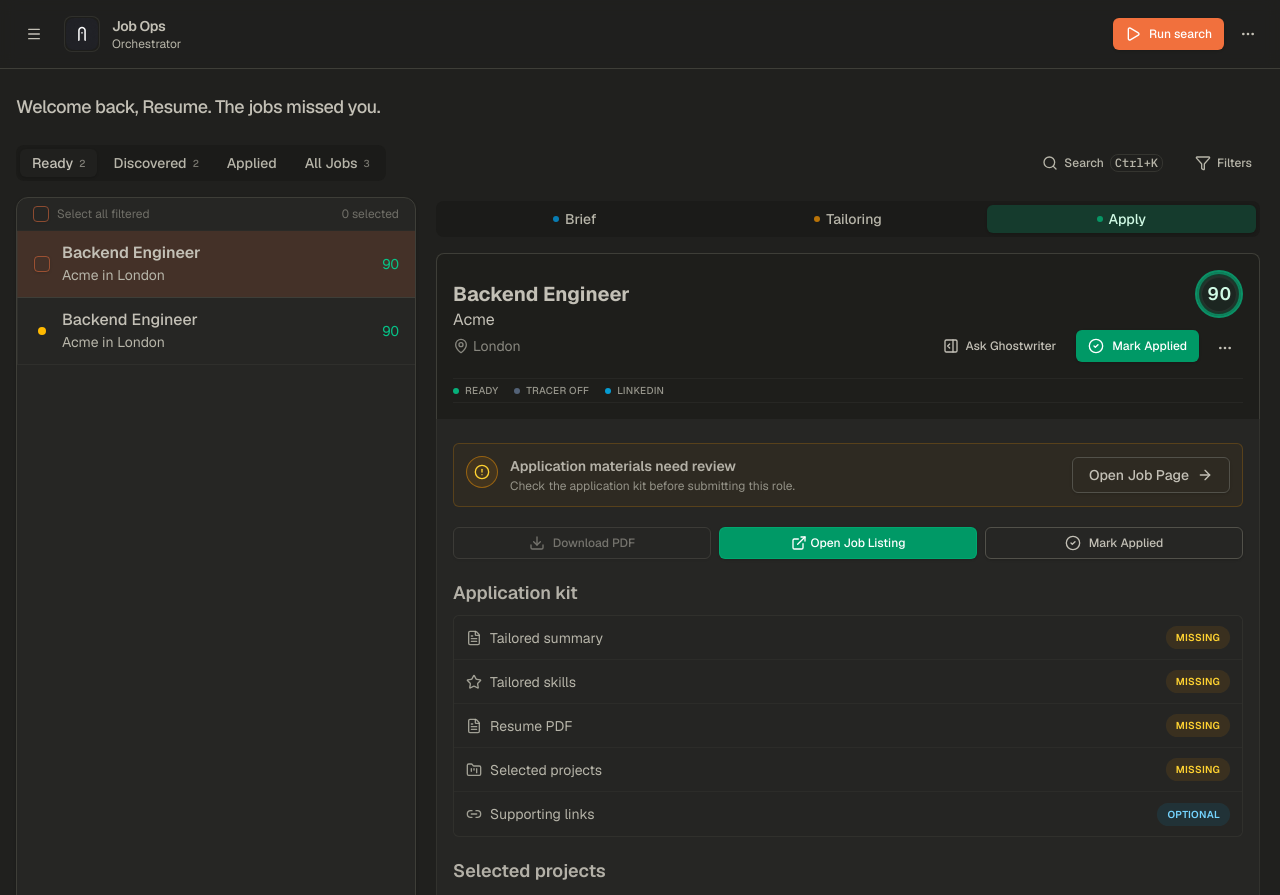
Scenario: OrchestratorPage › toggles the full-screen search composer from the navbar
This screenshot has width=1280, height=895.
Click the button "Run search" at [1168, 34], box [1113, 18, 1224, 50]
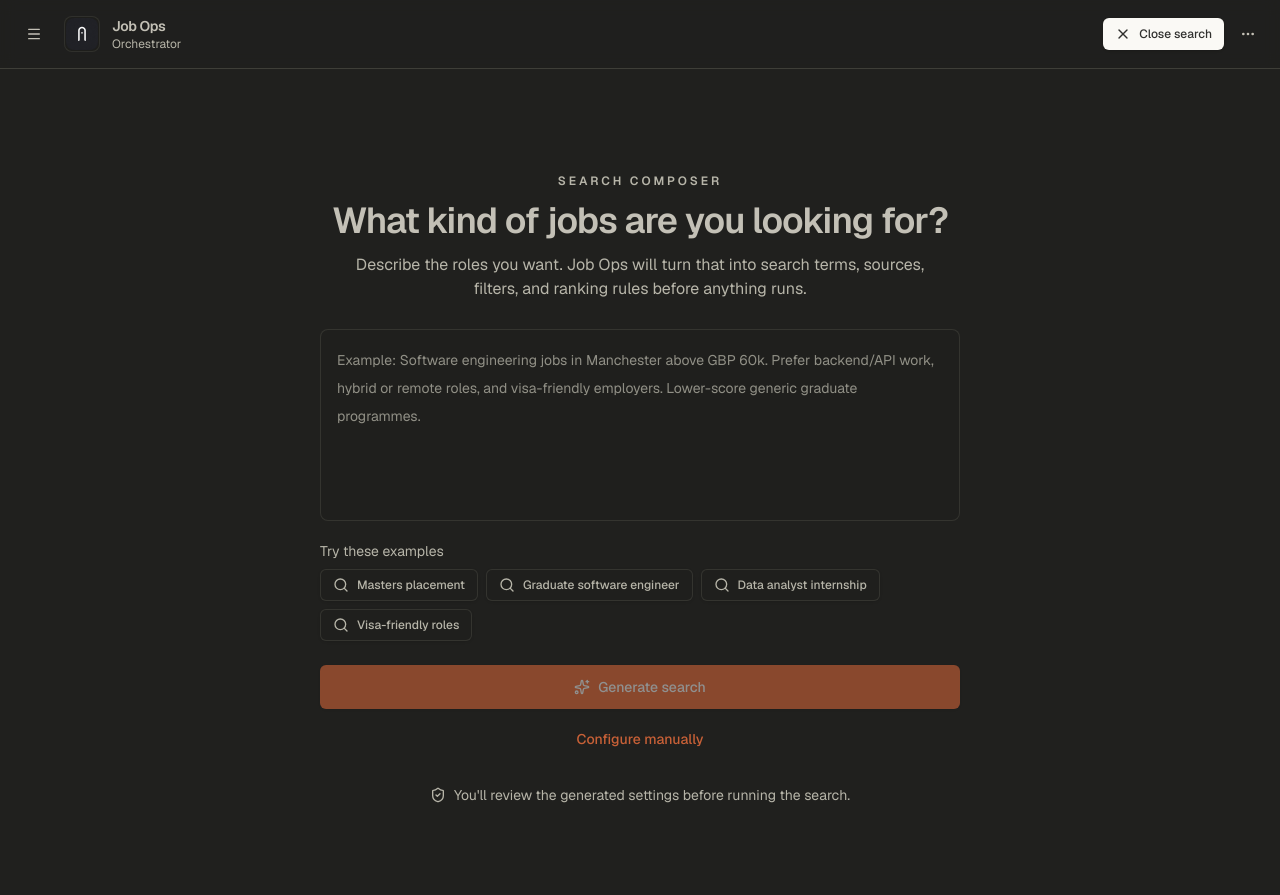
Click the button "Close search" at [1164, 34], box [1103, 18, 1224, 50]
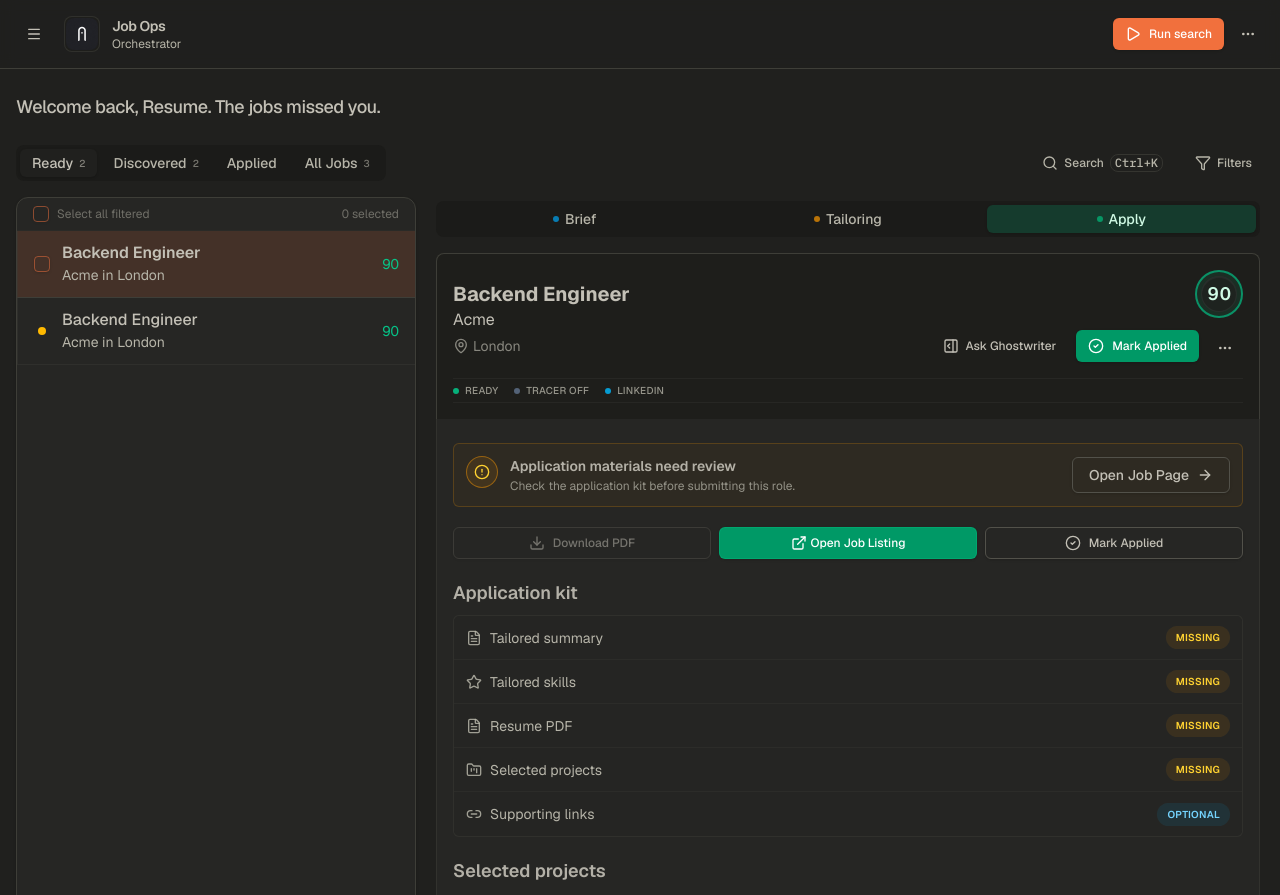
Result: the heading "What kind of jobs are you looking for?" is gone
Result: the button "Run search" is shown at [1113, 18, 1224, 50]
